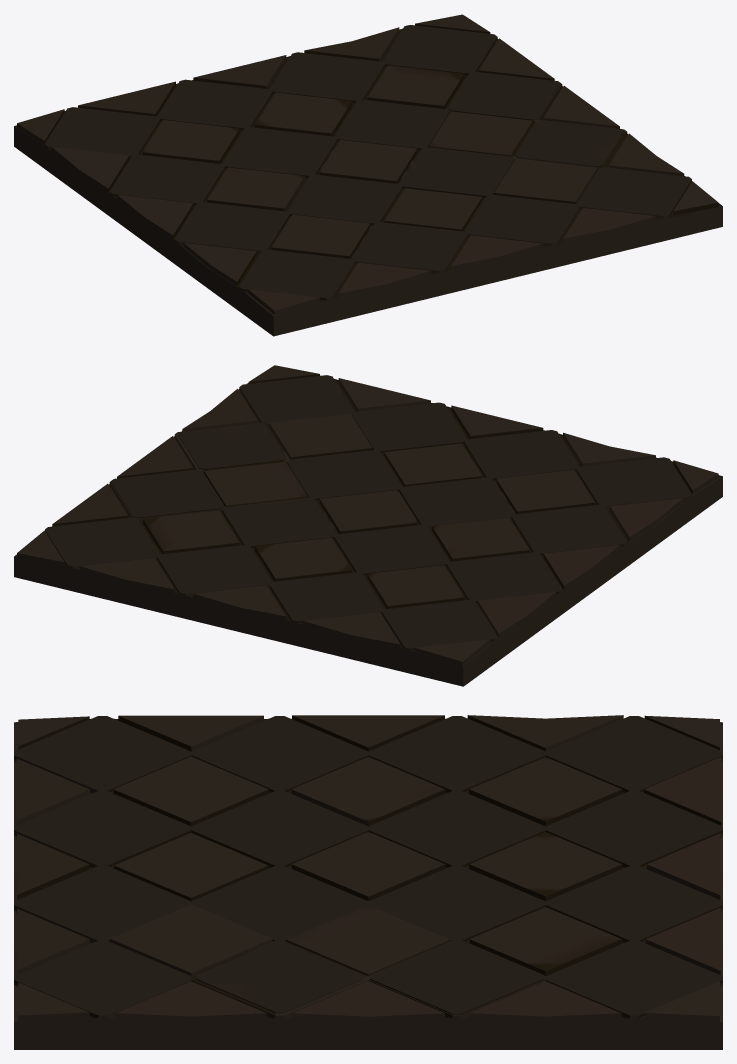
Rendered from FloorTile.obj.
3 renders of one model, top to bottom at view 1: azimuth 30°, elevation 25°; view 2: azimuth 150°, elevation 25°; view 3: azimuth 270°, elevation 25°, orthographic. The views are drawn at different scales.
Parts seen in each view (by area): view 1: Boden.000_Cube.003; view 2: Boden.000_Cube.003; view 3: Boden.000_Cube.003.
Part boxes in pixels (x1,y1,x2,y2): Boden.000_Cube.003: (14, 14, 722, 336); Boden.000_Cube.003: (14, 365, 722, 686); Boden.000_Cube.003: (14, 715, 722, 1049).
Bounding box in the file's own units: 4.84 × 0.2732 × 4.84.
1 material, 1 textured.
